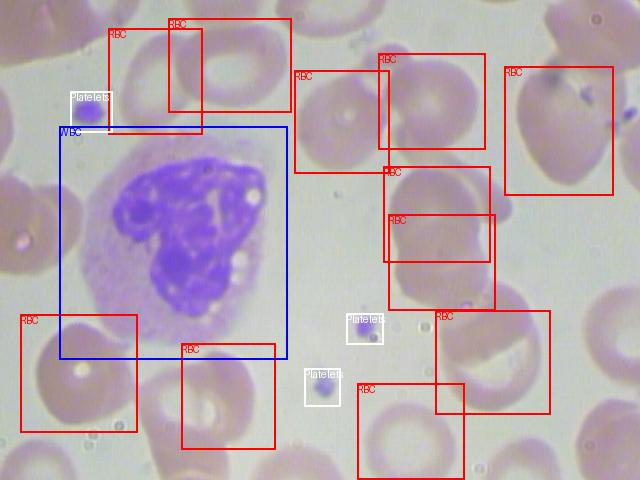Platelets: (70, 91, 112, 132), (304, 368, 340, 406), (346, 313, 383, 344)
RBC: (504, 66, 613, 195), (20, 314, 137, 432), (435, 310, 550, 414), (168, 18, 291, 112), (378, 53, 485, 149), (357, 383, 464, 479), (388, 214, 495, 310), (383, 166, 490, 262), (108, 28, 202, 134), (181, 343, 275, 449), (294, 70, 389, 173)
WBC: (59, 126, 287, 359)
